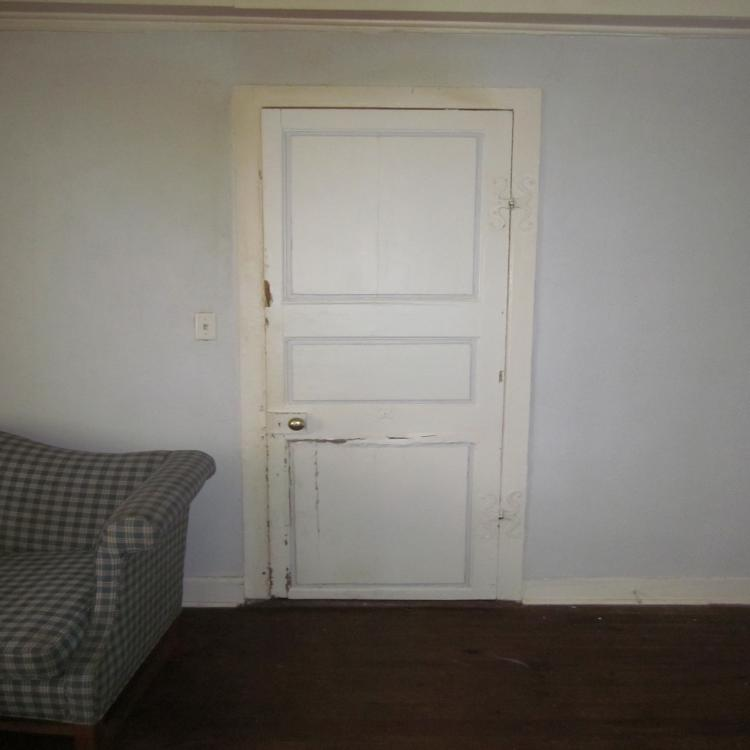ClosedDoor: (245, 93, 531, 615)
